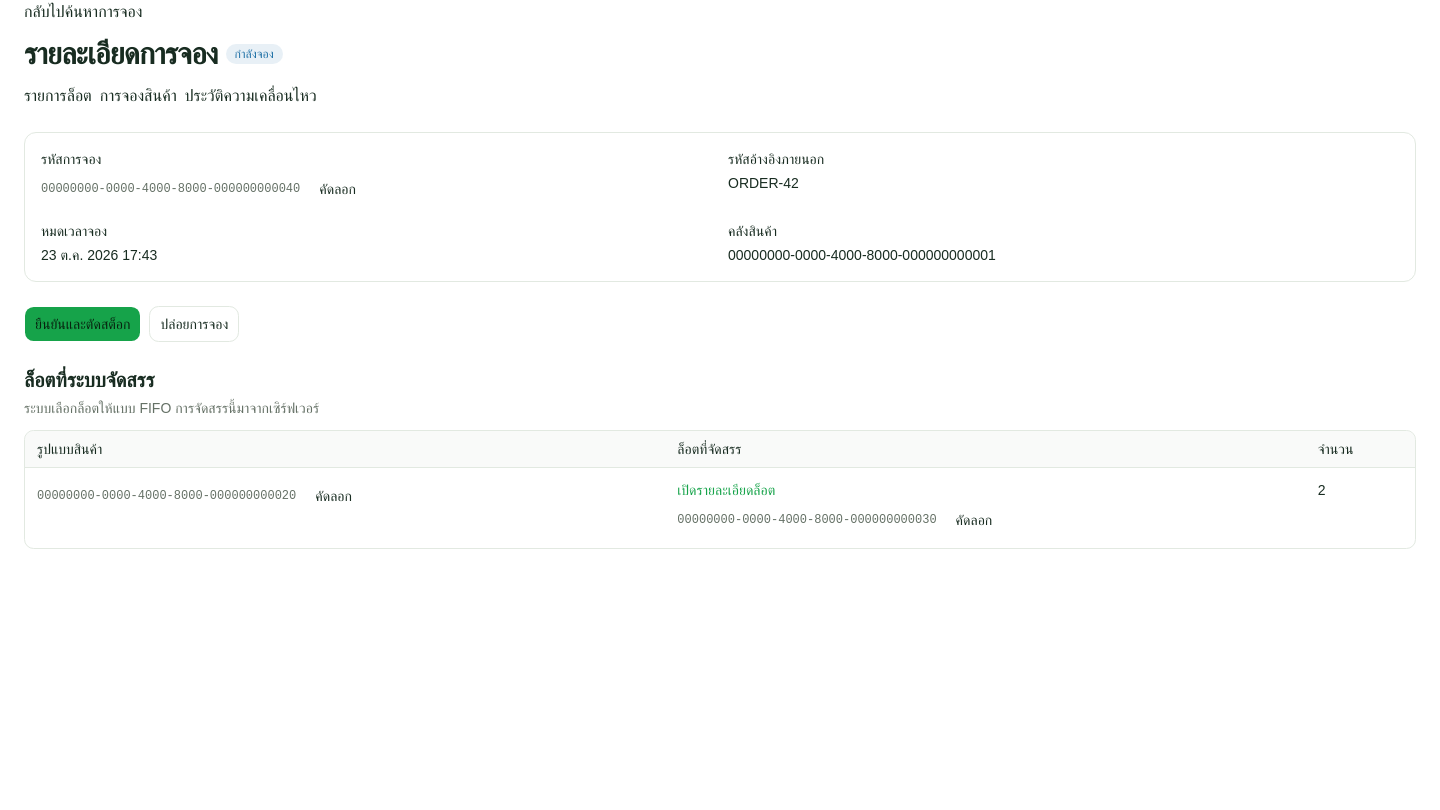
Test case: release requires confirmation and refreshes to the released server status
The width and height of the screenshot is (1440, 810).
Expected: the icon "กำลังจอง" is shown, [226, 44, 283, 64]
Click the button "ปล่อยการจอง": [194, 324] box [150, 306, 239, 342]
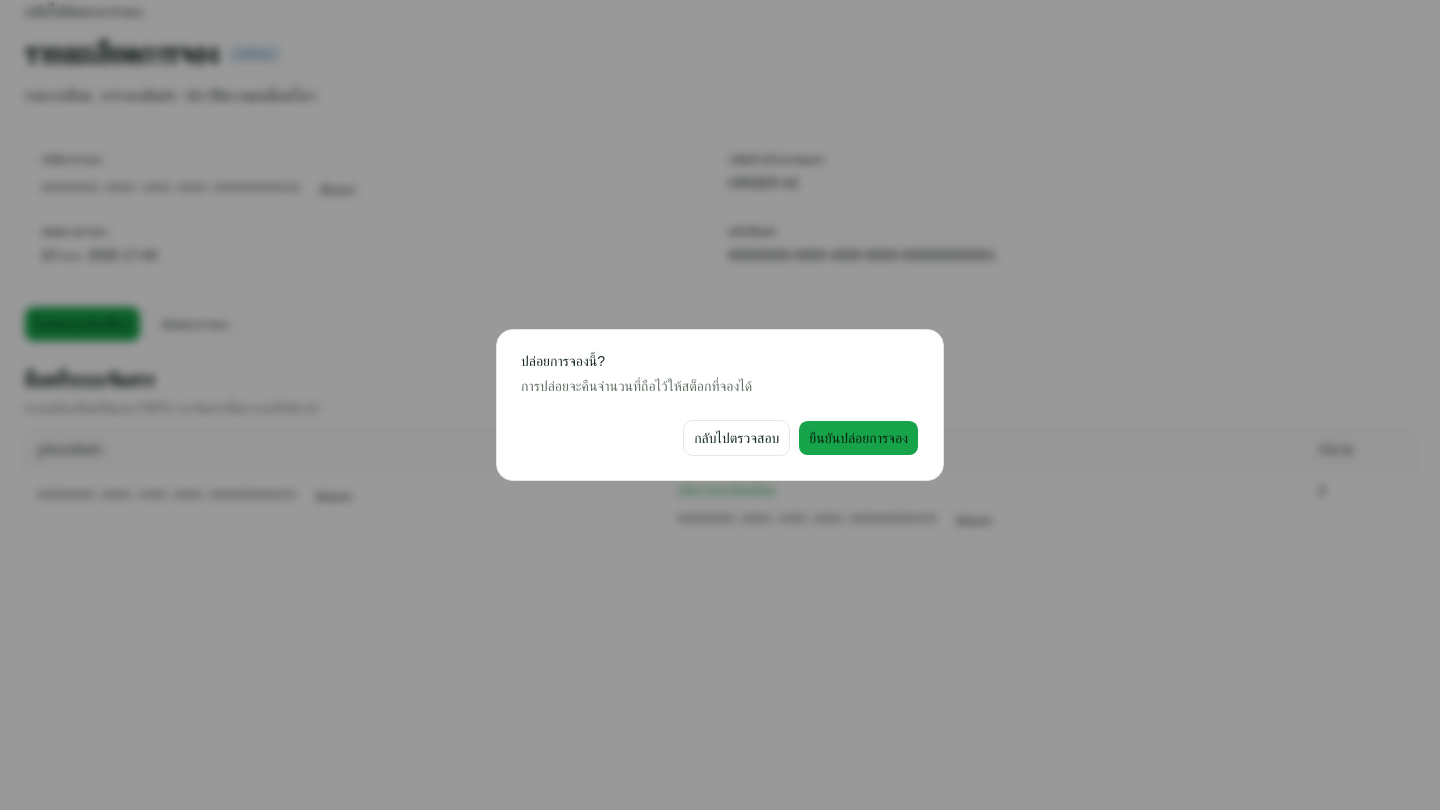
Expected: the text "การปล่อยจะคืนจำนวนที่ถือไว้ให้สต็อกที่จองได้" is shown, [521, 378, 752, 394]
Click the button "ยืนยันปล่อยการจอง": [859, 438] box [798, 420, 919, 456]
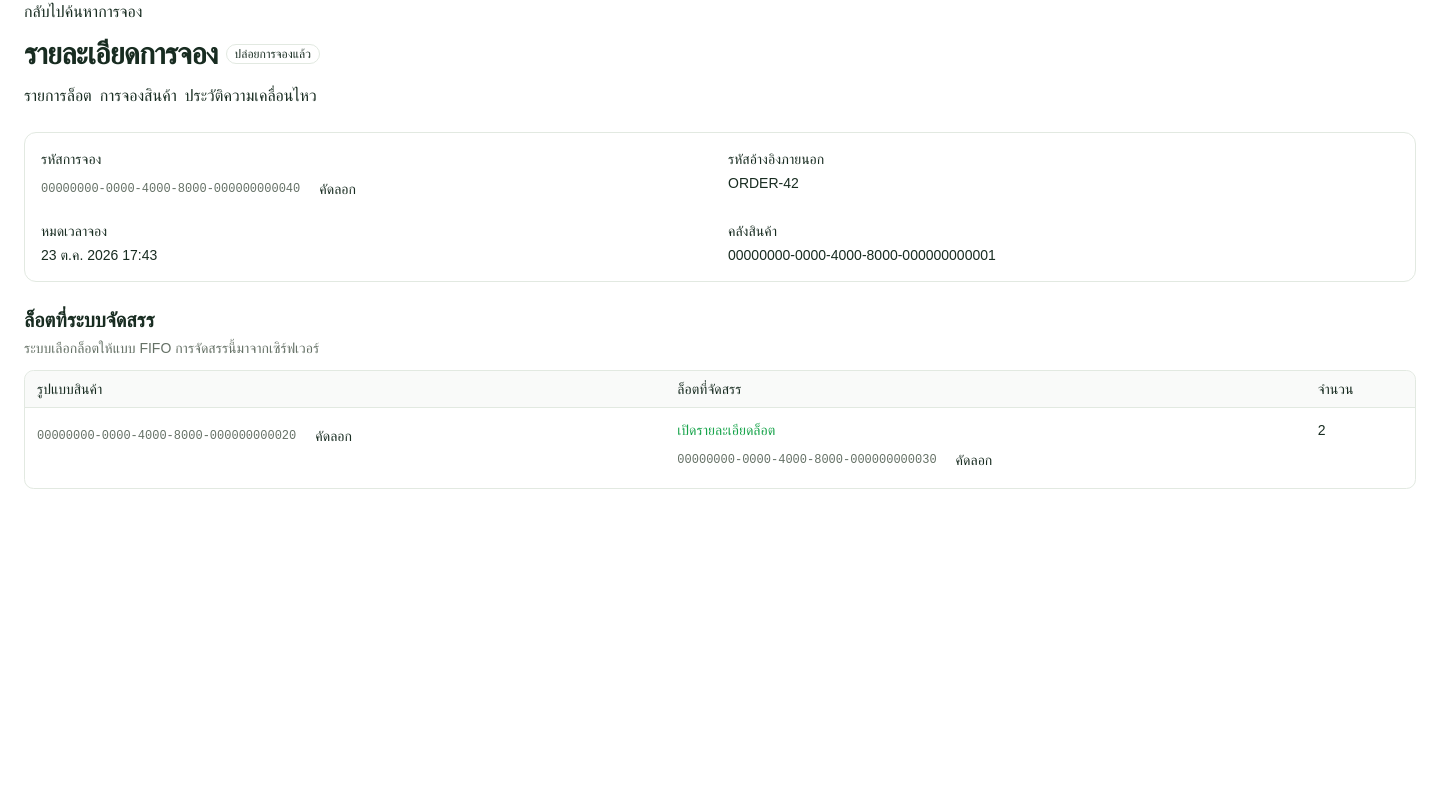
Expected: the text "ปล่อยการจองแล้ว" is shown, [226, 44, 320, 64]
